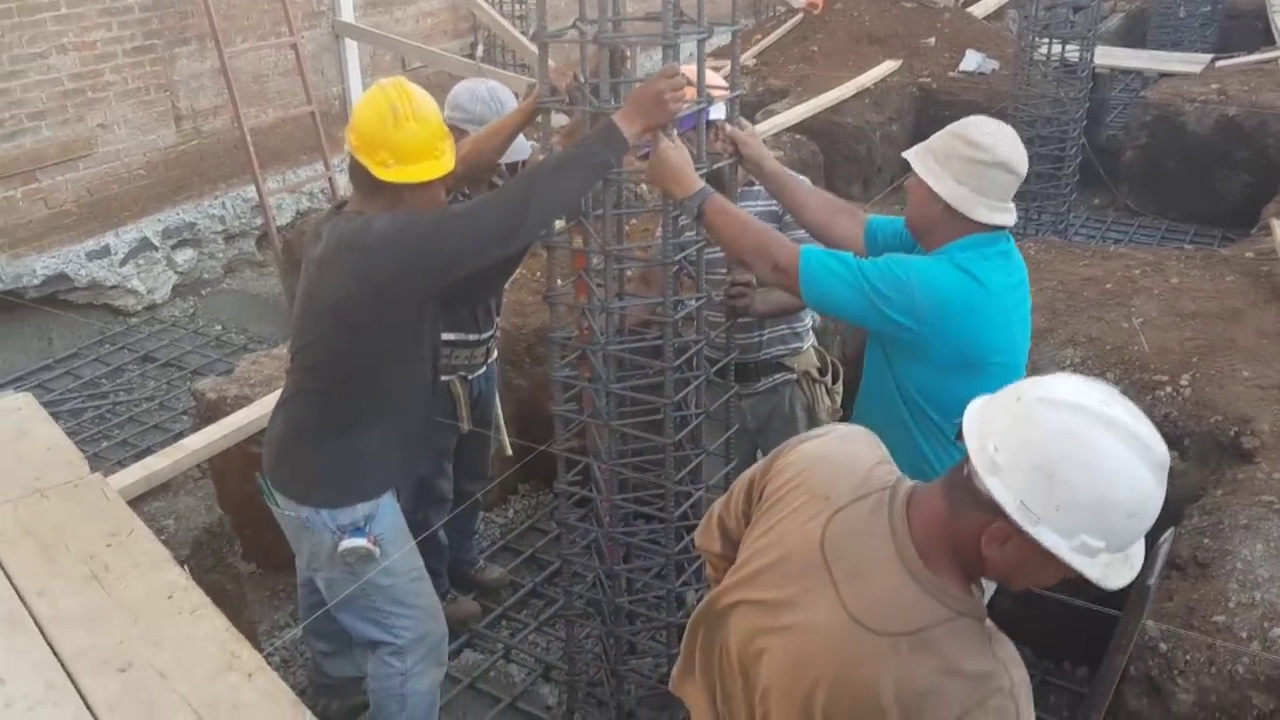helmet: (965, 384, 1186, 608), (342, 73, 458, 190), (666, 62, 733, 104)
helmet-off: (901, 108, 1037, 249), (442, 72, 536, 181)
helmet-on: (900, 385, 1187, 610), (332, 63, 458, 221), (658, 66, 731, 170)
person: (260, 56, 647, 714), (658, 382, 1177, 720), (645, 115, 1038, 472), (658, 59, 851, 462), (411, 63, 535, 638)
